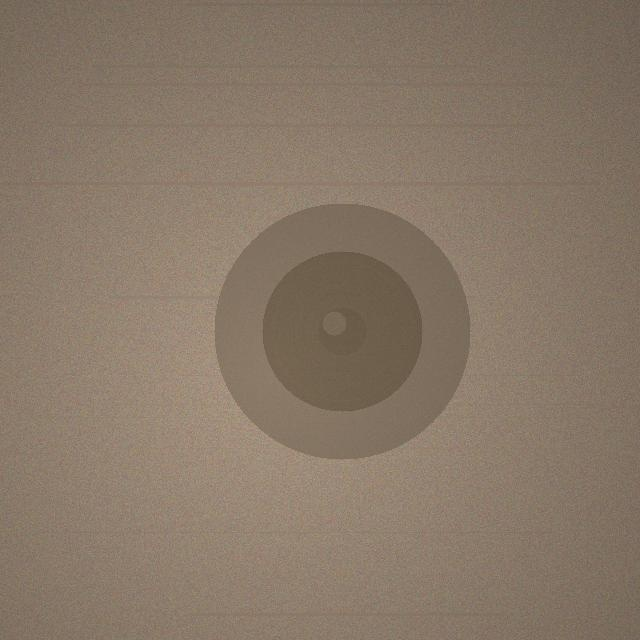good: (214, 203, 470, 459)
